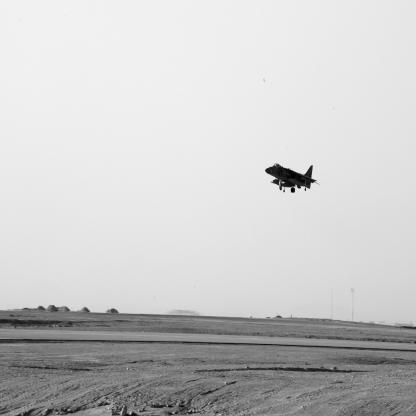AV8B: (266, 164, 321, 194)
